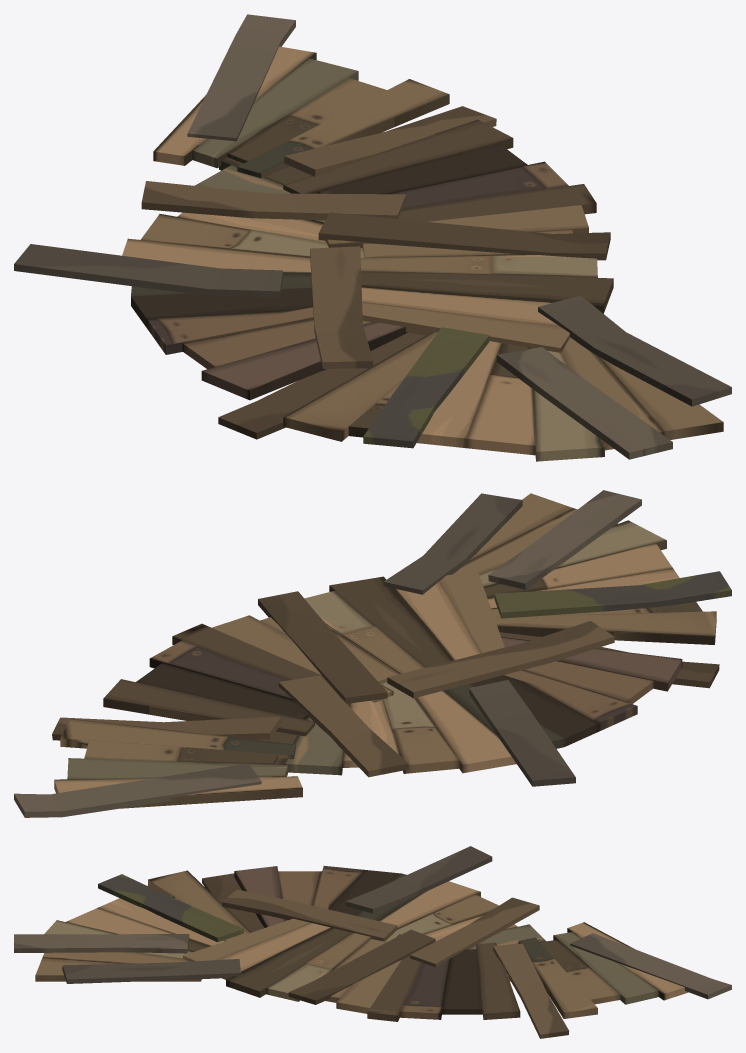
Rendered from SM_Bld_Dock_Preset_01.fbx.
3 renders of one model, top to bottom at view 1: azimuth 30°, elevation 25°; view 2: azimuth 150°, elevation 25°; view 3: azimuth 270°, elevation 25°, orthographic. The views are drawn at different scales.
Parts seen in each view (by area): view 1: SM_Bld_Dock_Preset_01; view 2: SM_Bld_Dock_Preset_01; view 3: SM_Bld_Dock_Preset_01.
Boxes of the visible parts, bbox=[...] form: SM_Bld_Dock_Preset_01: bbox=[14, 14, 731, 461]; SM_Bld_Dock_Preset_01: bbox=[14, 490, 731, 817]; SM_Bld_Dock_Preset_01: bbox=[14, 846, 731, 1038].
Size of the model in its own units: 579 by 43.62 by 1017.
